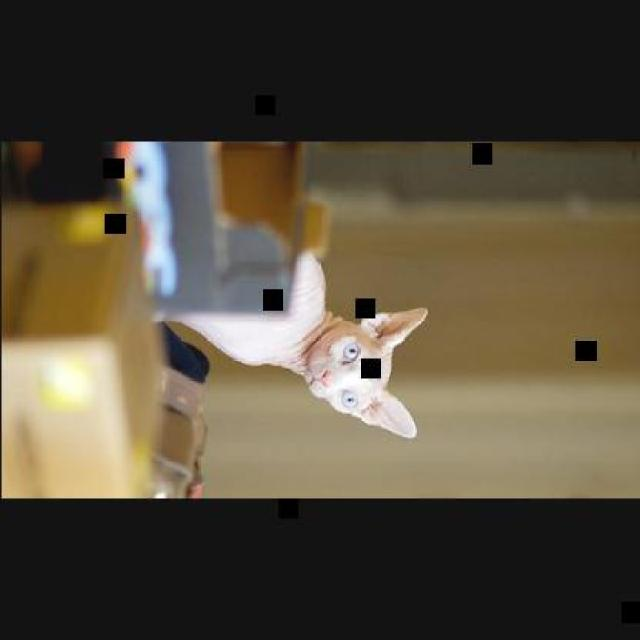unauthorized: (160, 248, 428, 440)
